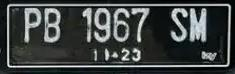1: (80, 6, 93, 44)
6: (112, 7, 132, 44)
7: (132, 6, 150, 44)
9: (94, 7, 112, 44)
B: (41, 6, 64, 44)
M: (190, 7, 208, 44)
P: (22, 6, 42, 44)
S: (168, 6, 190, 44)
